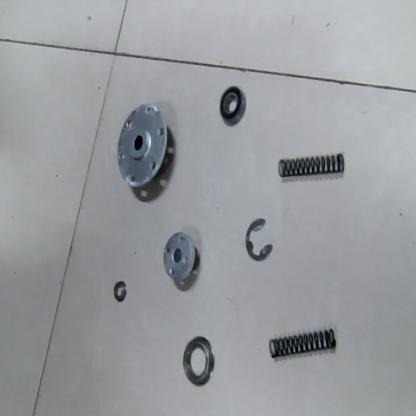FOD: (115, 100, 169, 192), (266, 324, 339, 364), (274, 149, 348, 183), (162, 230, 200, 289), (180, 333, 218, 389), (242, 214, 276, 264), (218, 83, 247, 127), (110, 278, 130, 302)
